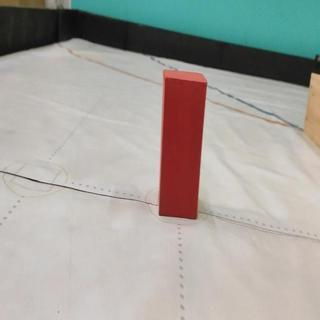redbox: (159, 66, 208, 219)
